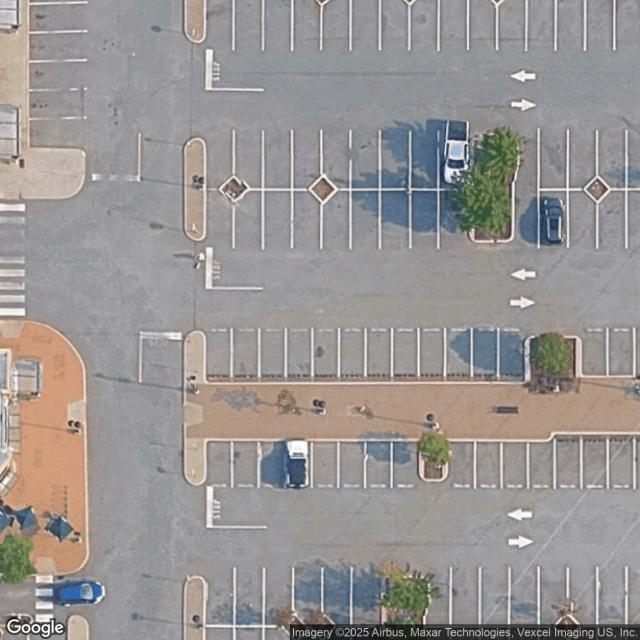car: (441, 117, 473, 185), (538, 192, 569, 250), (53, 577, 106, 607), (284, 440, 310, 490)
lot_boundary: (21, 1, 635, 640)
